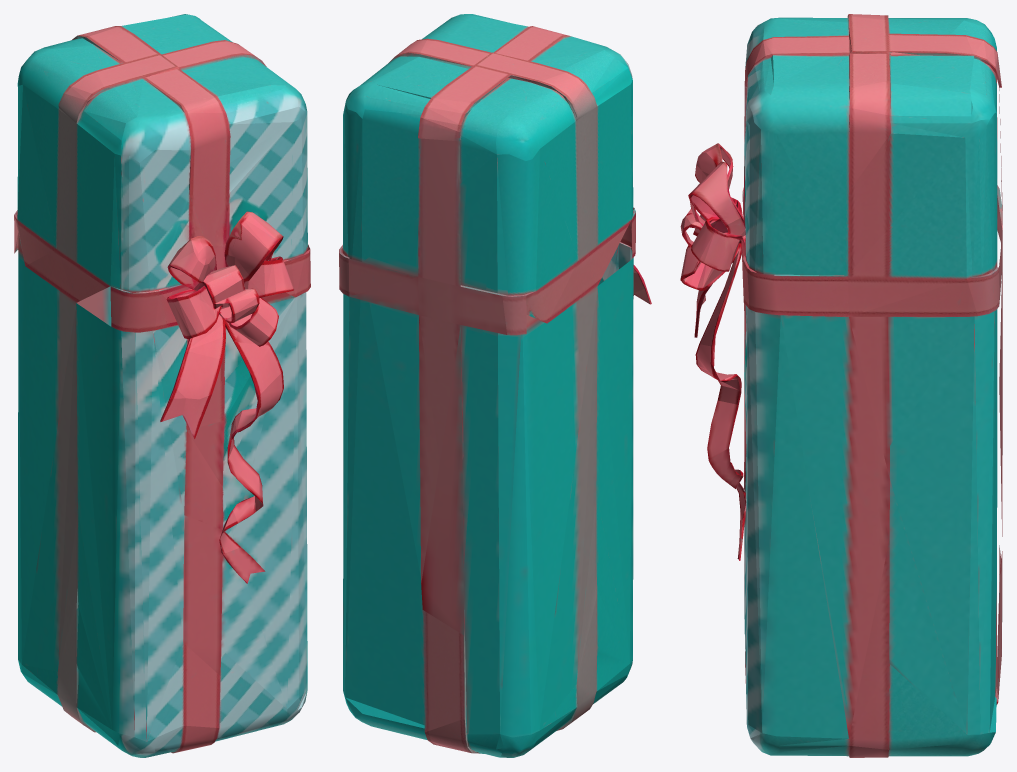
3 views of the same model, side by side, from view 1: azimuth 30°, elevation 25°; view 2: azimuth 150°, elevation 25°; view 3: azimuth 270°, elevation 25° (orthographic). The views are drawn at different scales.
Parts seen in each view (by area): view 1: output_unwrapped; view 2: output_unwrapped; view 3: output_unwrapped.
Part boxes in pixels (x1,y1,x2,y2): output_unwrapped: [14, 14, 310, 757]; output_unwrapped: [339, 14, 651, 757]; output_unwrapped: [680, 14, 1002, 757].
Bounding box in the file's own units: 0.6018 × 1.9 × 0.822.
Materials: 1 (1 with a texture image).
